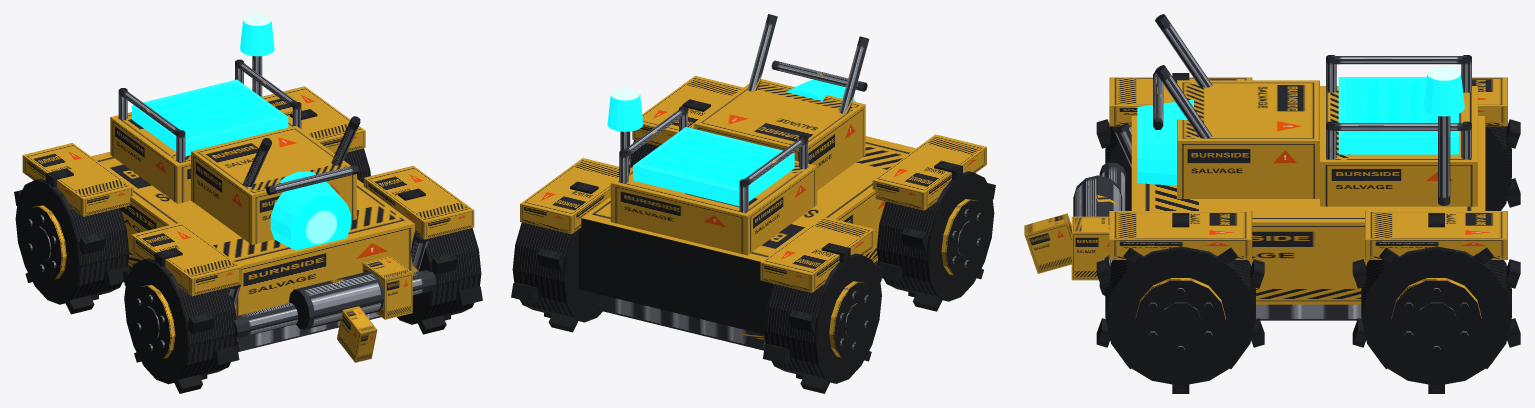
Rendered from utility_crawler.glb.
3 renders of one model, left to right at view 1: azimuth 30°, elevation 25°; view 2: azimuth 150°, elevation 25°; view 3: azimuth 270°, elevation 25°, orthographic. The views are drawn at different scales.
Visible parts, largest first — view 1: UtilityCrawler_Mesh; view 2: UtilityCrawler_Mesh; view 3: UtilityCrawler_Mesh.
Part boxes in pixels (x1=…): UtilityCrawler_Mesh: x1=14, y1=14, x2=482, y2=393; UtilityCrawler_Mesh: x1=511, y1=14, x2=995, y2=393; UtilityCrawler_Mesh: x1=1024, y1=14, x2=1520, y2=393.
Size of the model in its own units: 1.11 by 0.807 by 1.32.
Materials: 2 (2 with a texture image).
